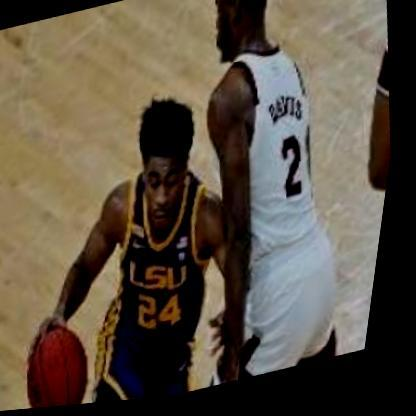basketball: (24, 318, 114, 411)
